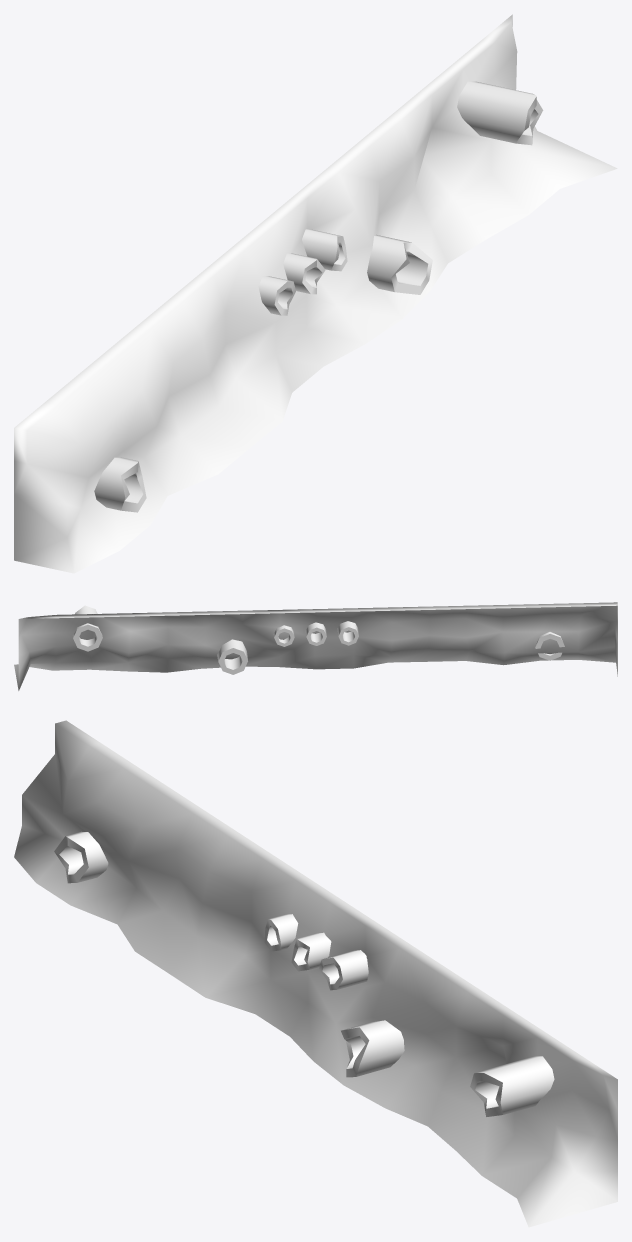
The model's file is under wall.fbx.
3 views of the same model, one above another, from view 1: azimuth 30°, elevation 25°; view 2: azimuth 150°, elevation 25°; view 3: azimuth 270°, elevation 25° (orthographic). The views are drawn at different scales.
Visible parts, largest first — view 1: wall_under_ground; view 2: wall_under_ground; view 3: wall_under_ground.
Boxes of the visible parts, x1=… form: wall_under_ground: x1=14, y1=14, x2=617, y2=573; wall_under_ground: x1=14, y1=602, x2=617, y2=690; wall_under_ground: x1=14, y1=720, x2=617, y2=1227.
Size of the model in its own units: 6740 by 1000 by 4472.
